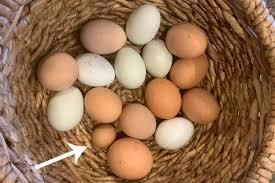egg: (108, 138, 156, 182), (81, 17, 128, 54), (181, 87, 225, 126), (74, 53, 118, 92), (46, 88, 86, 130), (144, 78, 184, 118), (164, 24, 210, 58), (122, 99, 158, 141), (38, 54, 80, 90), (114, 46, 148, 90), (126, 3, 162, 44), (170, 56, 214, 89), (85, 84, 124, 121), (141, 41, 176, 78), (153, 119, 195, 148), (91, 124, 116, 146)
